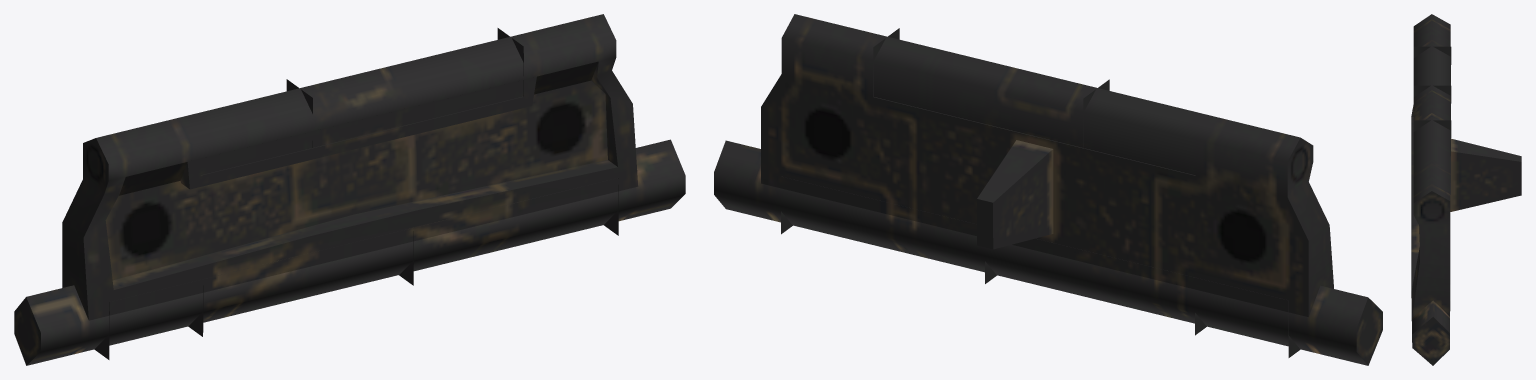
3 renders of one model, left to right at view 1: azimuth 30°, elevation 25°; view 2: azimuth 150°, elevation 25°; view 3: azimuth 270°, elevation 25°, orthographic. The views are drawn at different scales.
Visible parts, largest first — view 1: set_0_group_0; view 2: set_0_group_0; view 3: set_0_group_0.
Part boxes in pixels (x1=…): set_0_group_0: x1=14, y1=14, x2=685, y2=365; set_0_group_0: x1=714, y1=14, x2=1382, y2=365; set_0_group_0: x1=1411, y1=14, x2=1521, y2=365.
Bounding box in the file's own units: 0.5311 × 0.1671 × 0.1103.
Materials: 1 (1 with a texture image).
